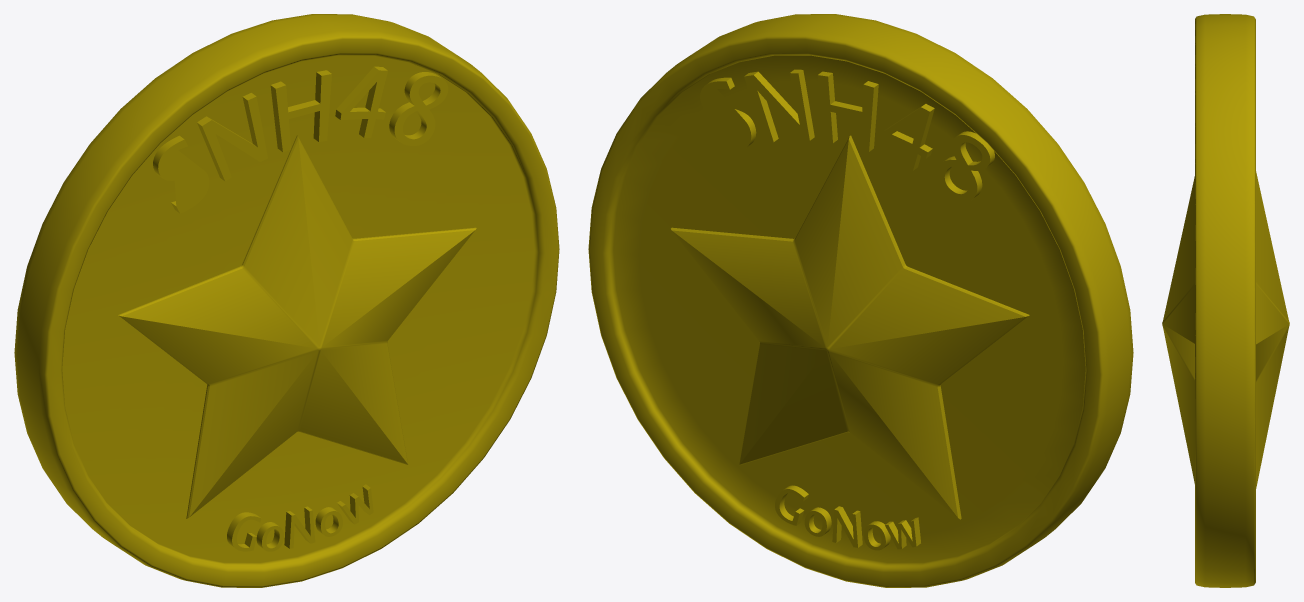
The model's file is Coin.fbx.
The picture shows the model from 3 angles, left to right: view 1: azimuth 30°, elevation 25°; view 2: azimuth 150°, elevation 25°; view 3: azimuth 270°, elevation 25°; orthographic projection. The views are drawn at different scales.
Parts seen in each view (by area): view 1: Coin; view 2: Coin; view 3: Coin.
Part boxes in pixels (x1,y1,x2,y2): Coin: [14, 14, 559, 587]; Coin: [588, 14, 1133, 587]; Coin: [1162, 14, 1289, 587].
Bounding box in the file's own units: 49.39 × 49.39 × 10.98.
